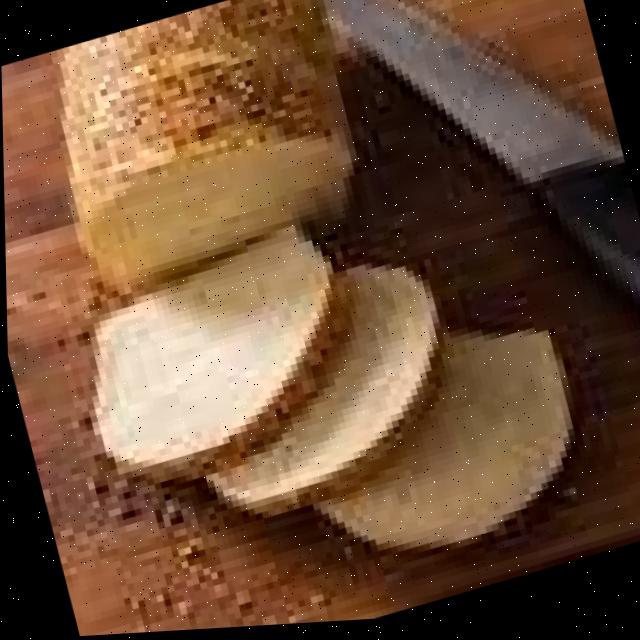Bread: (92, 231, 328, 468), (204, 271, 435, 512), (314, 336, 569, 551)
